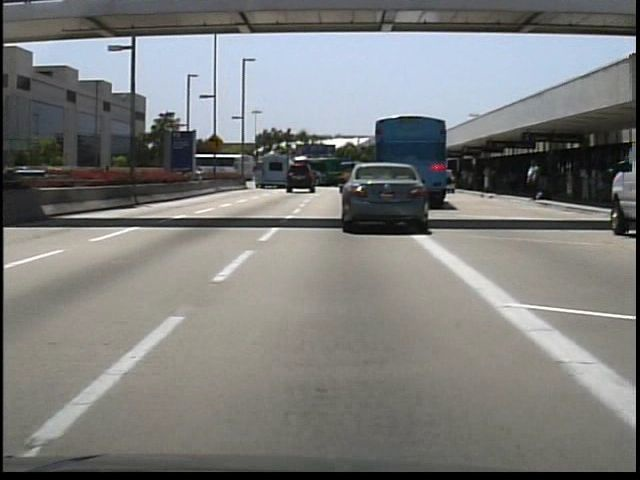person: (525, 157, 543, 204)
